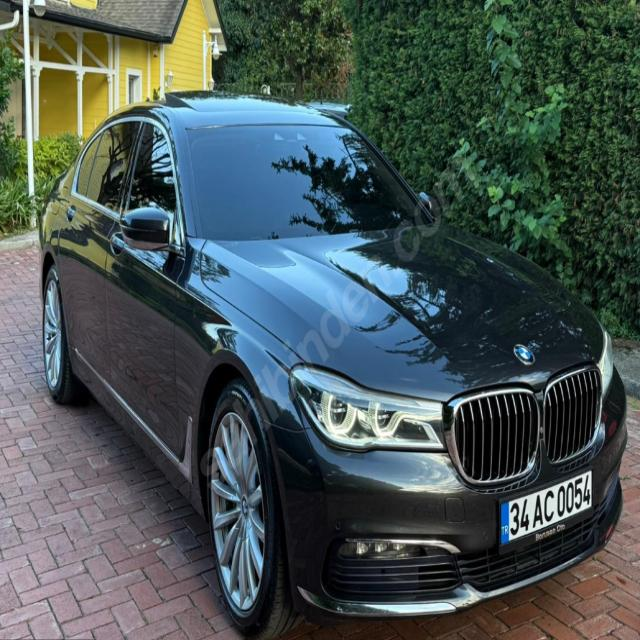bmw: (512, 340, 536, 372)
